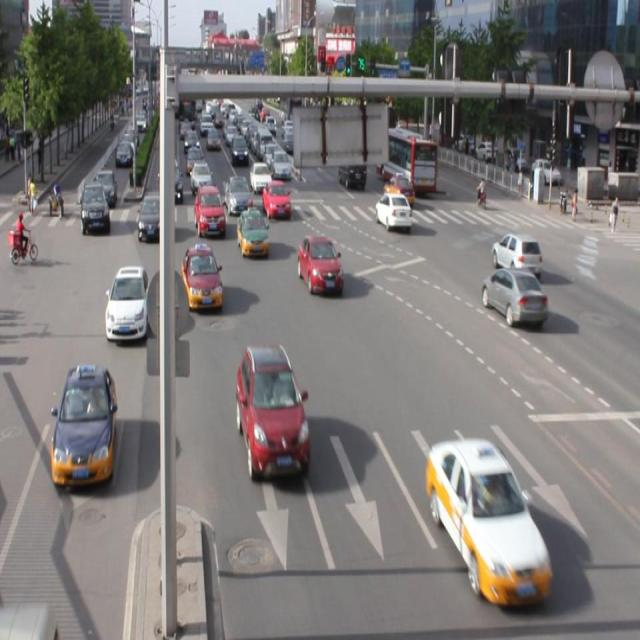car: (426, 438, 550, 606), (235, 342, 310, 482), (51, 363, 118, 484), (480, 266, 547, 328), (105, 264, 150, 339), (297, 235, 343, 296), (182, 245, 223, 310), (490, 231, 540, 279), (236, 208, 270, 258), (374, 190, 411, 228)
